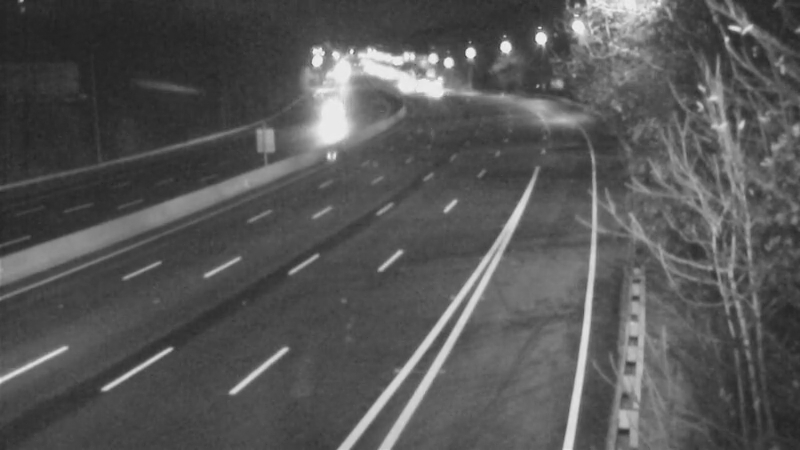vehicle: (411, 70, 461, 120), (300, 86, 350, 136)
